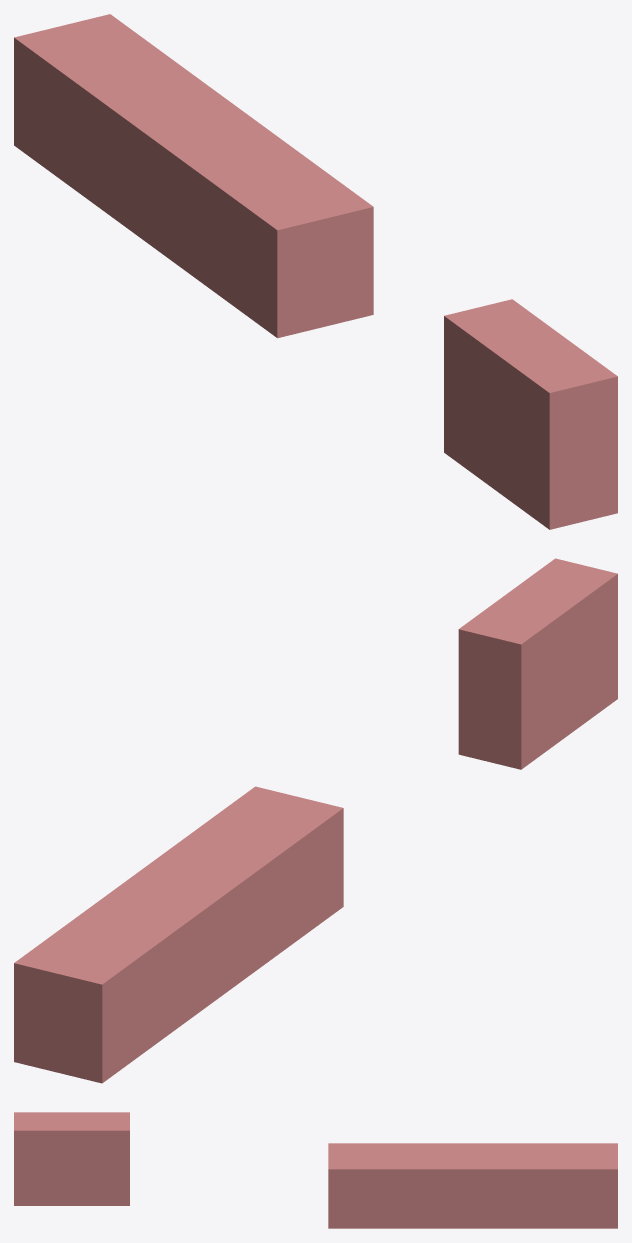
Rendered from 239526_occ.glb.
3 renders of one model, top to bottom at view 1: azimuth 30°, elevation 25°; view 2: azimuth 150°, elevation 25°; view 3: azimuth 270°, elevation 25°, orthographic. The views are drawn at different scales.
Visible parts, largest first — view 1: world; view 2: world; view 3: world.
Boxes of the visible parts, x1,y1,x2,y2 form: world: [14, 14, 617, 529]; world: [14, 558, 617, 1083]; world: [14, 1112, 617, 1228].
Bounding box in the file's own units: 0.8259 × 1.13 × 7.15.
